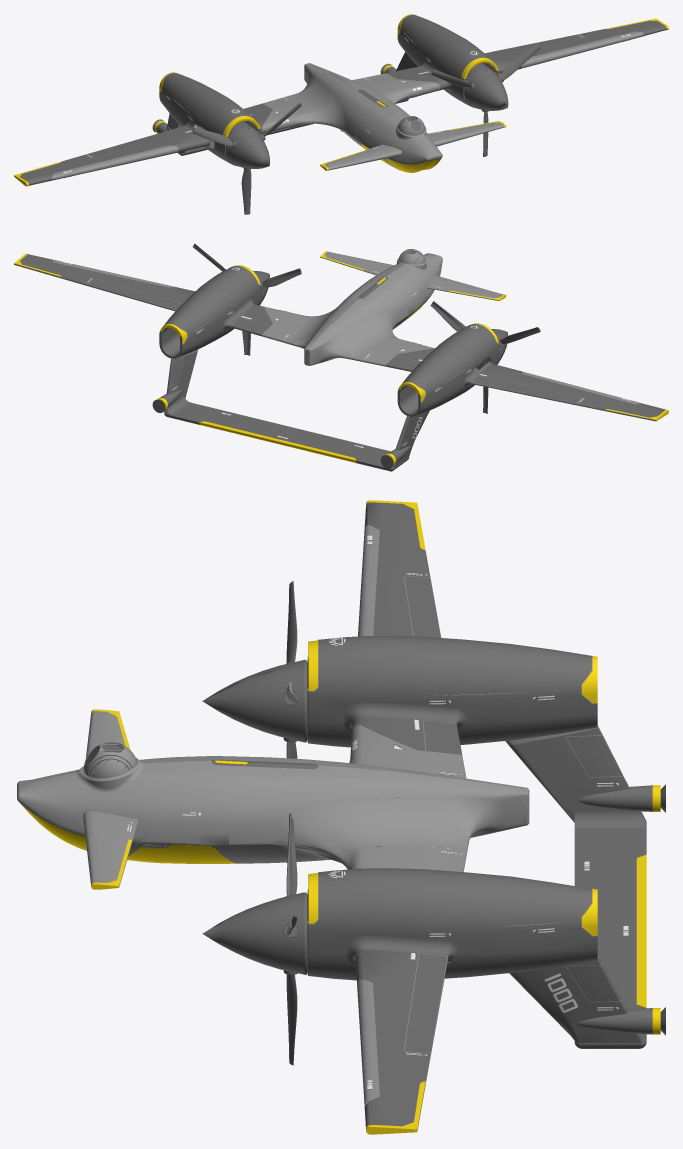
The model's file is omen-v3.glb.
3 views of the same model, one above another, from view 1: azimuth 30°, elevation 25°; view 2: azimuth 150°, elevation 25°; view 3: azimuth 270°, elevation 25° (orthographic). The views are drawn at different scales.
Parts seen in each view (by area): view 1: L Body, L Wing, R Body, R Wing, R Engine, L Engine, L Leg, R Leg, R Prop Hub, L Prop Hub, Tail, R Body Blend (+5 smaller); view 2: L Body, Tail, L Wing, R Body, R Wing, R Engine, L Engine, R Leg, L Leg, R Body Blend, L Body Blend; view 3: R Body, Tail, R Engine, L Engine, R Wing, L Leg, R Leg, L Wing, L Body, L Prop Hub, R Prop Hub, L Body Blend (+1 smaller).
Boxes of the visible parts, <box> form: L Body: <box>262,63,434,170</box>; L Wing: <box>14,124,209,185</box>; R Body: <box>308,63,506,159</box>; R Wing: <box>485,18,667,73</box>; R Engine: <box>397,26,499,107</box>; L Engine: <box>159,84,261,165</box>; L Leg: <box>160,72,238,122</box>; R Leg: <box>398,14,477,64</box>; R Prop Hub: <box>464,69,508,112</box>; L Prop Hub: <box>226,128,269,170</box>; Tail: <box>152,52,417,155</box>; R Body Blend: <box>386,65,447,90</box>; L Body: <box>307,249,506,366</box>; Tail: <box>152,351,429,471</box>; L Wing: <box>467,362,667,421</box>; R Body: <box>262,249,433,365</box>; R Wing: <box>14,253,194,311</box>; R Engine: <box>159,265,261,359</box>; L Engine: <box>397,323,499,416</box>; R Leg: <box>160,273,240,336</box>; L Leg: <box>398,332,479,394</box>; R Body Blend: <box>228,303,272,336</box>; L Body Blend: <box>385,348,434,371</box>; R Body: <box>17,747,529,889</box>; Tail: <box>508,727,665,1048</box>; R Engine: <box>307,868,598,980</box>; L Engine: <box>307,636,598,747</box>; R Wing: <box>353,944,450,1134</box>; L Leg: <box>370,636,597,696</box>; R Leg: <box>370,868,597,928</box>; L Wing: <box>358,500,441,637</box>; L Body: <box>17,709,529,841</box>; L Prop Hub: <box>202,659,307,742</box>; R Prop Hub: <box>202,892,307,974</box>; L Body Blend: <box>351,713,462,755</box>.
Size of the model in its own units: 0.381 by 0.0567 by 0.1667.
